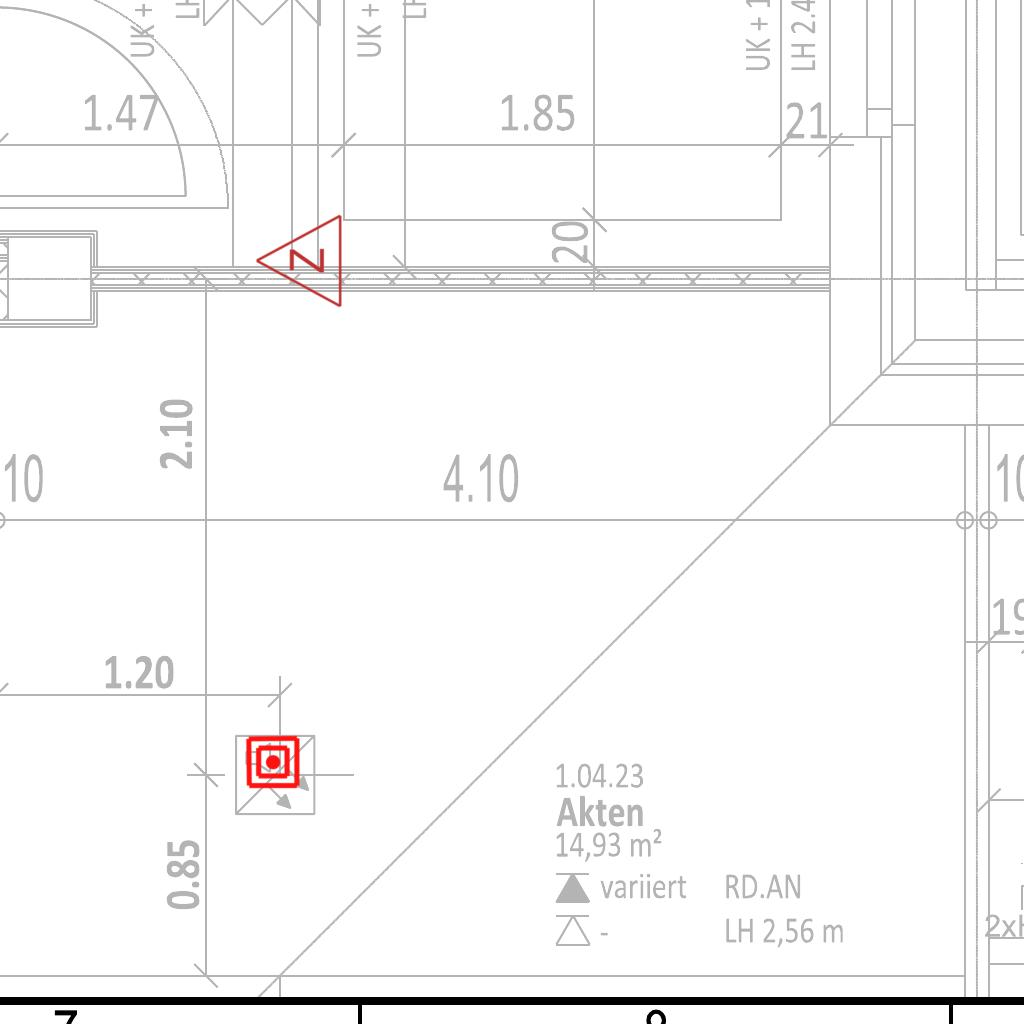NAM-Nichtautomatischer_Melder: (245, 734, 301, 790)
Zimmersignalleuchte: (249, 213, 349, 311)
